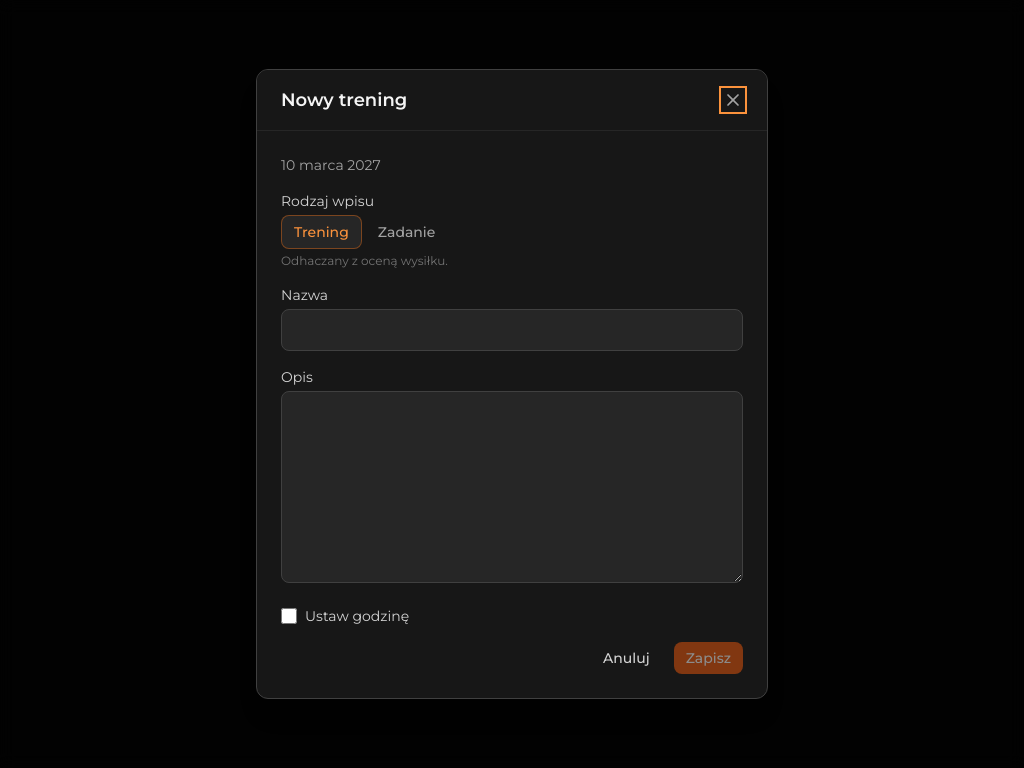
Test: TrainingFormModal › does not offer a refresh for an ordinary failure
In the field labelled "Nazwa": [512, 330] box [281,309,743,351], type "Siła"
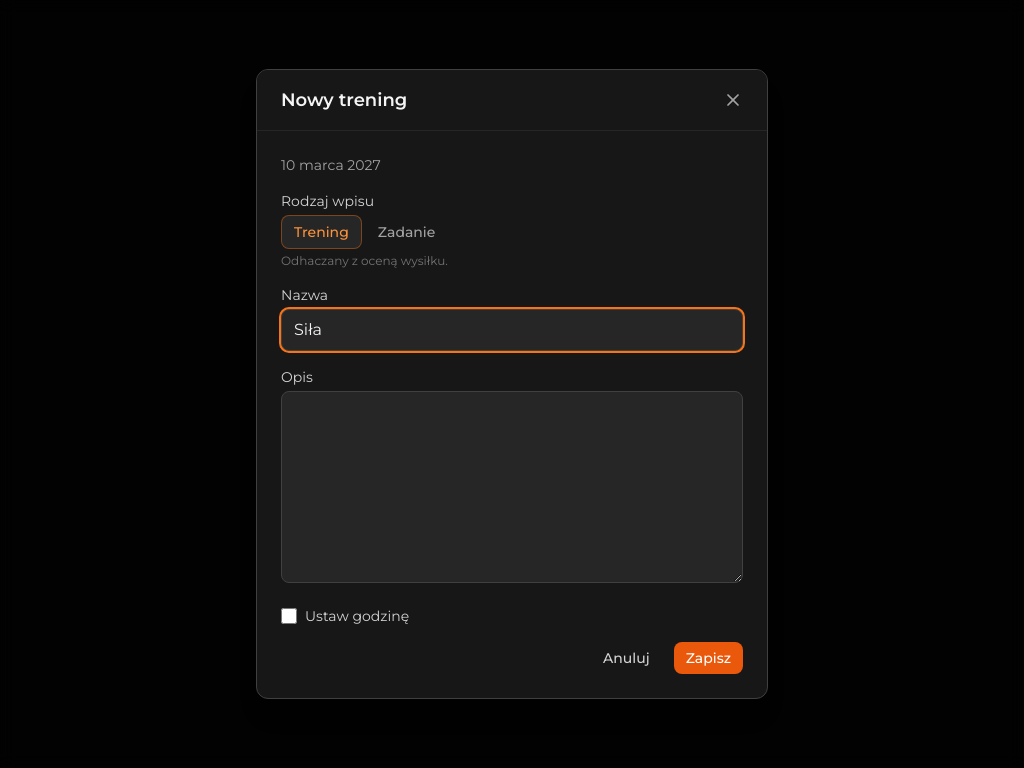
Click the button "Zapisz": [708, 658] box [674,642,743,674]
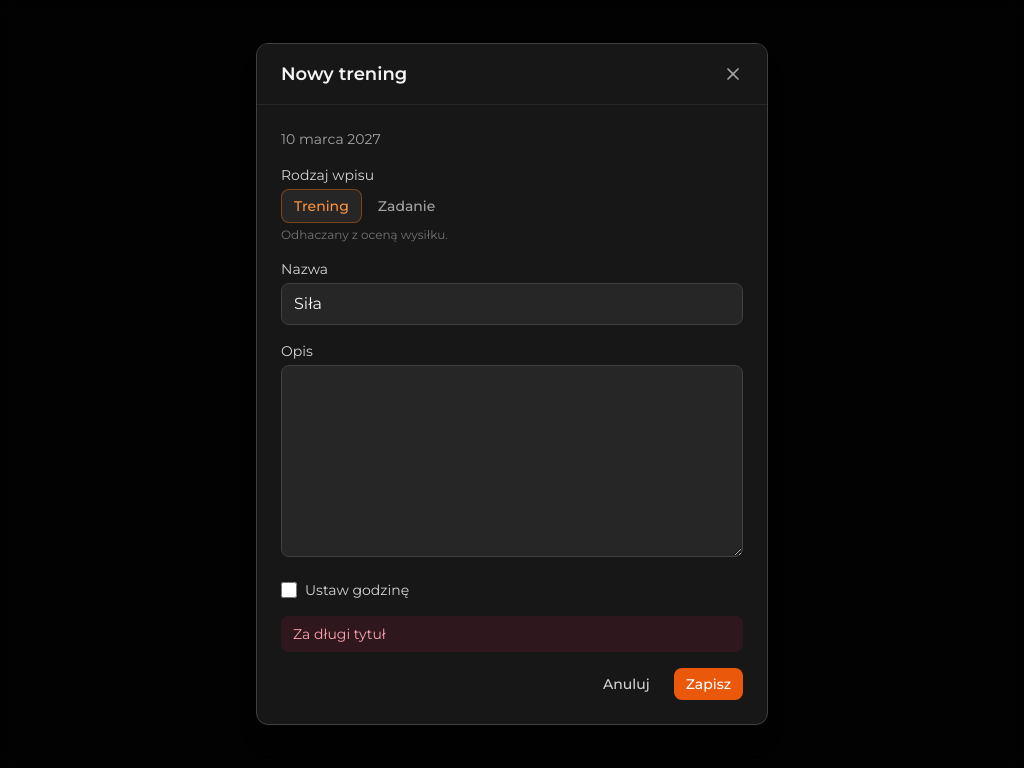
Now the message "Za długi tytuł" is shown, box [281,616,743,652]
